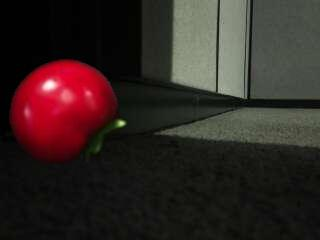Tomato: (8, 58, 127, 166)
